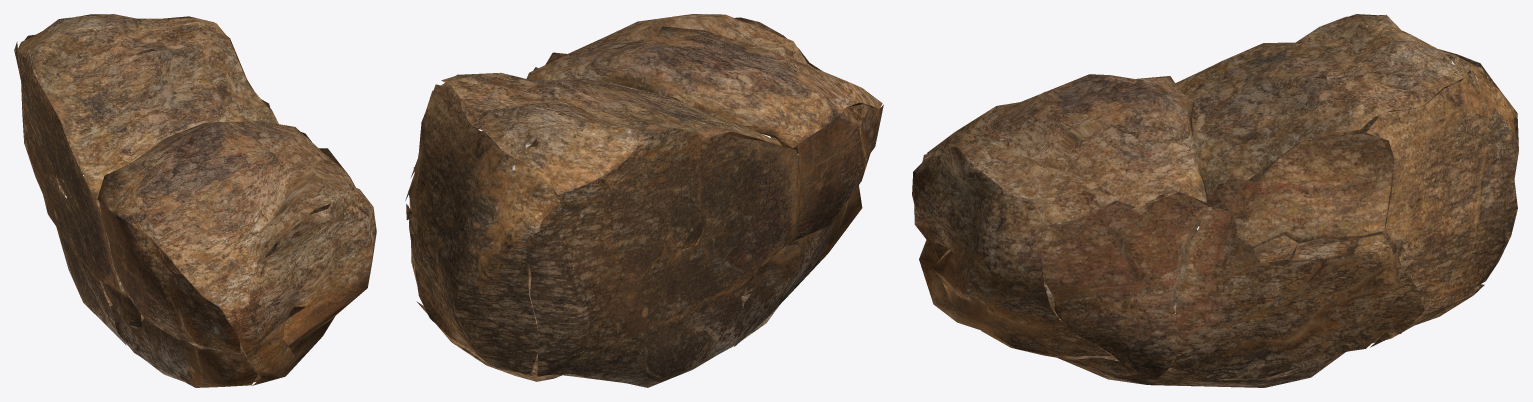
File: rock_5.glb
3 renders of one model, left to right at view 1: azimuth 30°, elevation 25°; view 2: azimuth 150°, elevation 25°; view 3: azimuth 270°, elevation 25°, orthographic. The views are drawn at different scales.
Parts seen in each view (by area): view 1: Rock5; view 2: Rock5; view 3: Rock5.
Part boxes in pixels (box(x1,y1,x2,y2)): Rock5: box(14, 14, 376, 387); Rock5: box(405, 14, 883, 387); Rock5: box(912, 14, 1518, 387).
Size of the model in its own units: 0.5475 by 0.5427 by 0.9892.
1 material, 1 textured.
